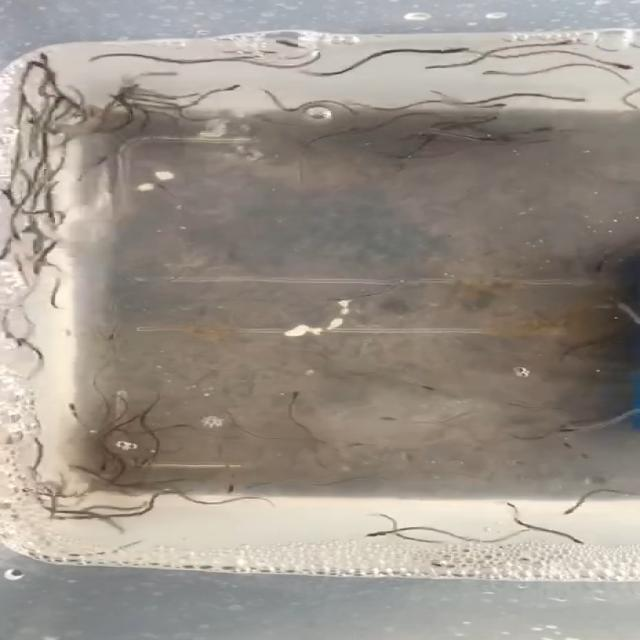inactive_glass_eel: (460, 129, 504, 148), (24, 110, 54, 134), (31, 48, 63, 70), (85, 53, 125, 70), (26, 437, 46, 470), (585, 256, 615, 278), (473, 64, 507, 83), (113, 88, 150, 105), (481, 96, 512, 116), (41, 188, 62, 216), (109, 92, 138, 112), (0, 180, 25, 203), (276, 36, 311, 52), (526, 123, 568, 136), (554, 37, 599, 49), (553, 92, 589, 107), (3, 224, 26, 247), (96, 329, 127, 345), (99, 91, 134, 105), (61, 400, 88, 418), (286, 387, 312, 405), (138, 454, 164, 472), (359, 528, 393, 541), (446, 45, 482, 57), (28, 259, 50, 278), (2, 332, 30, 346), (14, 486, 46, 498), (90, 154, 122, 166), (92, 459, 113, 477), (61, 461, 90, 474), (499, 498, 522, 514), (215, 486, 248, 496), (406, 536, 436, 547), (121, 80, 152, 90), (419, 65, 456, 73), (212, 84, 248, 92), (256, 86, 281, 97), (616, 61, 637, 74), (555, 510, 582, 518)
